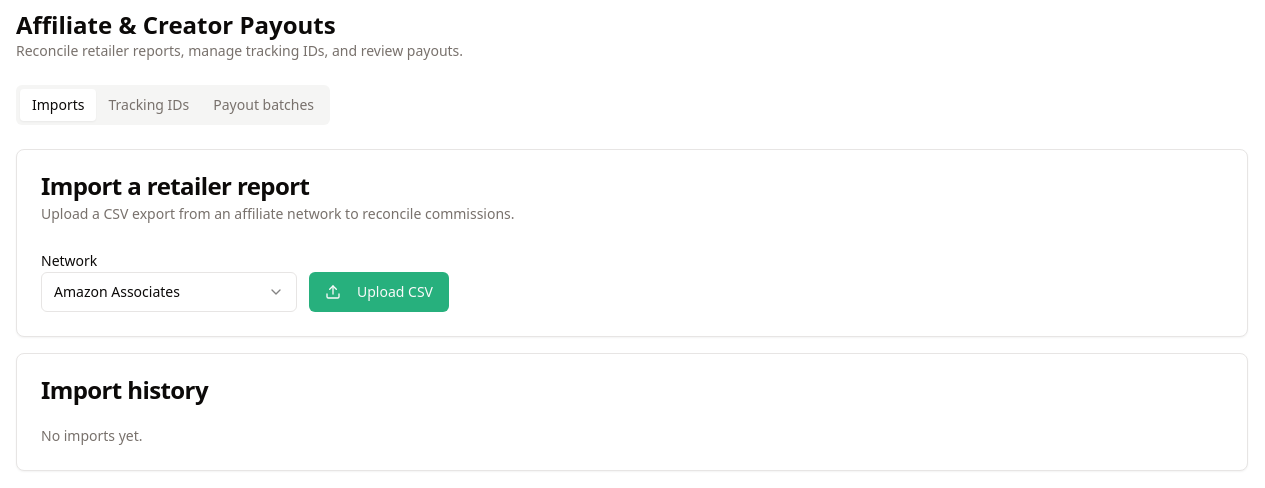
Test case: AffiliateAdmin › Payout batches tab › shows an empty state when there are no batches
Click the tab "Payout batches". click: click(264, 105)
box: [201,89,326,121]
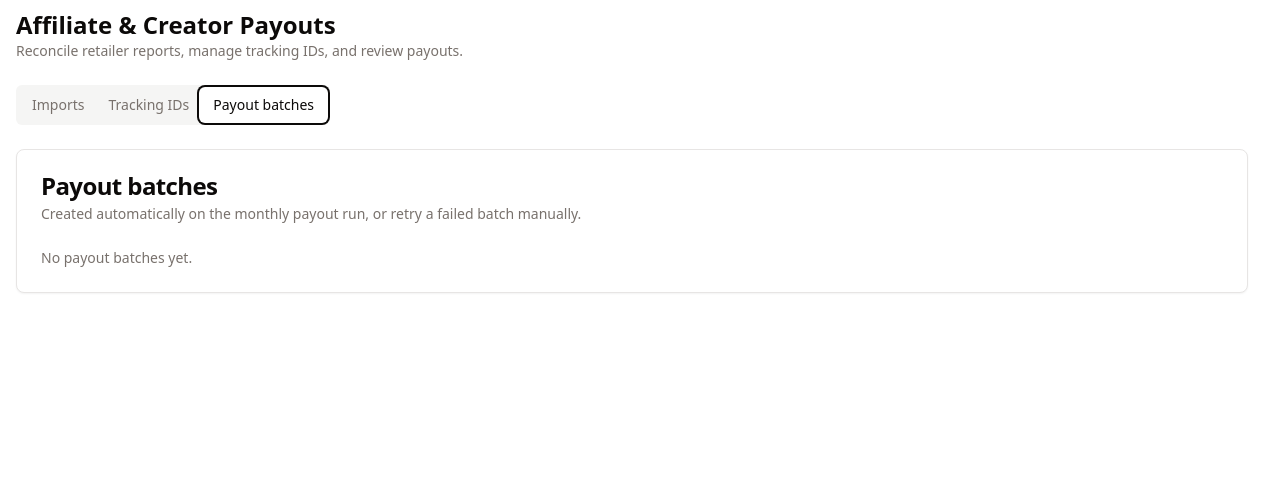
Check: the text "Created automatically on the monthly payout run" is shown, box [41,204,581,223]
Check: the text "No payout batches yet." is shown, box [41,248,192,267]
